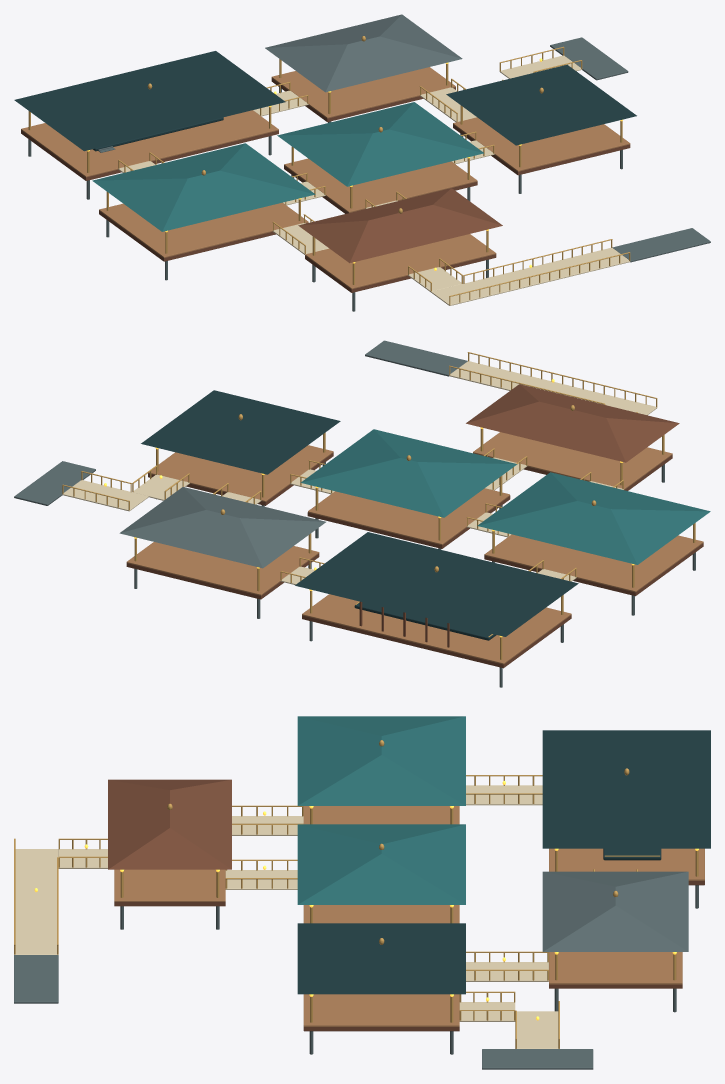
The model's file is bar_static.glb.
3 renders of one model, top to bottom at view 1: azimuth 30°, elevation 25°; view 2: azimuth 150°, elevation 25°; view 3: azimuth 270°, elevation 25°, orthographic. The views are drawn at different scales.
Parts seen in each view (by area): view 1: VIS_Pavilion_P6_Roof, VIS_Pavilion_P2_Roof, VIS_Pavilion_P3_Roof, VIS_Pavilion_P4_Roof, VIS_Pavilion_P5_Roof, VIS_Pavilion_P1_Roof, VIS_Pavilion_P6_Deck, VIS_Pavilion_P2_Deck, VIS_Pavilion_P3_Deck, VIS_Pavilion_P1_Deck, VIS_Pavilion_P5_Deck, VIS_Pavilion_P4_Deck (+10 smaller); view 2: VIS_Pavilion_P6_Roof, VIS_Pavilion_P2_Roof, VIS_Pavilion_P3_Roof, VIS_Pavilion_P4_Roof, VIS_Pavilion_P5_Roof, VIS_Pavilion_P1_Roof, VIS_Pavilion_P6_Deck, VIS_Pavilion_P2_Deck, VIS_Pavilion_P3_Deck, VIS_Pavilion_P1_Deck, VIS_Pavilion_P5_Deck, VIS_Pavilion_P4_Deck (+9 smaller); view 3: VIS_Pavilion_P6_Roof, VIS_Pavilion_P2_Roof, VIS_Pavilion_P3_Roof, VIS_Pavilion_P4_Roof, VIS_Pavilion_P5_Roof, VIS_Pavilion_P1_Roof, VIS_Pavilion_P4_Deck, VIS_Bridge_B1_01_Deck, VIS_Pavilion_P5_Deck, VIS_Pavilion_P1_Deck, VIS_Pavilion_P6_Deck, VIS_Pavilion_P3_Deck (+14 smaller).
Boxes of the visible parts, x1,y1,x2,y2 form: VIS_Pavilion_P6_Roof: (14, 51, 285, 151); VIS_Pavilion_P2_Roof: (92, 143, 315, 231); VIS_Pavilion_P3_Roof: (277, 102, 483, 186); VIS_Pavilion_P4_Roof: (446, 64, 636, 145); VIS_Pavilion_P5_Roof: (265, 14, 462, 92); VIS_Pavilion_P1_Roof: (298, 188, 502, 263); VIS_Pavilion_P6_Deck: (21, 110, 278, 177); VIS_Pavilion_P2_Deck: (99, 202, 308, 257); VIS_Pavilion_P3_Deck: (284, 158, 477, 212); VIS_Pavilion_P1_Deck: (305, 234, 496, 289); VIS_Pavilion_P5_Deck: (271, 67, 455, 118); VIS_Pavilion_P4_Deck: (453, 117, 630, 171); VIS_Pavilion_P6_Roof: (295, 532, 578, 636); VIS_Pavilion_P2_Roof: (477, 472, 710, 564); VIS_Pavilion_P3_Roof: (301, 429, 517, 517); VIS_Pavilion_P4_Roof: (141, 390, 340, 474); VIS_Pavilion_P5_Roof: (119, 487, 325, 568); VIS_Pavilion_P1_Roof: (466, 384, 679, 462); VIS_Pavilion_P6_Deck: (302, 594, 571, 664); VIS_Pavilion_P2_Deck: (484, 534, 703, 592); VIS_Pavilion_P3_Deck: (308, 488, 509, 544); VIS_Pavilion_P1_Deck: (473, 432, 672, 489); VIS_Pavilion_P5_Deck: (126, 542, 319, 595); VIS_Pavilion_P4_Deck: (148, 445, 333, 501); VIS_Pavilion_P6_Roof: (542, 730, 710, 848); VIS_Pavilion_P2_Roof: (297, 716, 465, 805); VIS_Pavilion_P3_Roof: (297, 824, 465, 904); VIS_Pavilion_P4_Roof: (297, 923, 465, 994); VIS_Pavilion_P5_Roof: (542, 871, 688, 951); VIS_Pavilion_P1_Roof: (108, 779, 231, 869); VIS_Pavilion_P4_Deck: (303, 994, 459, 1026); VIS_Bridge_B1_01_Deck: (14, 849, 58, 954); VIS_Pavilion_P5_Deck: (549, 952, 682, 984); VIS_Pavilion_P1_Deck: (114, 869, 225, 901); VIS_Pavilion_P6_Deck: (549, 848, 704, 880); VIS_Pavilion_P3_Deck: (303, 905, 459, 923).
Size of the model in its own units: 67.55 by 8.53 by 62.55.
